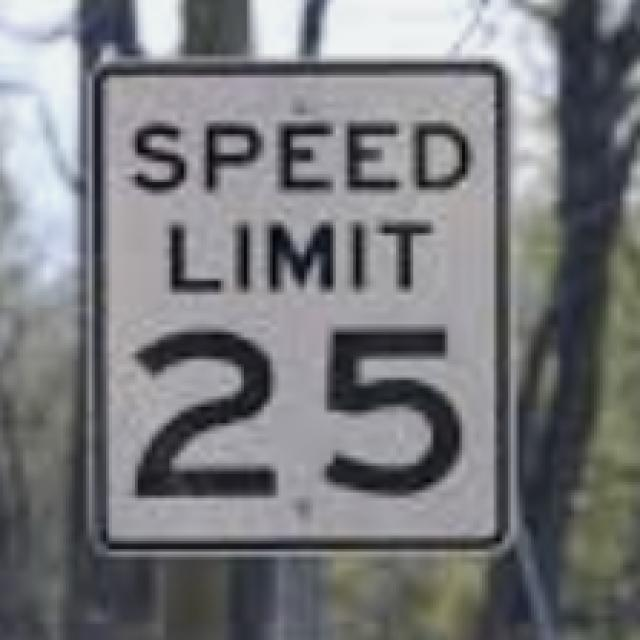speedLimit25: (76, 54, 517, 554)
